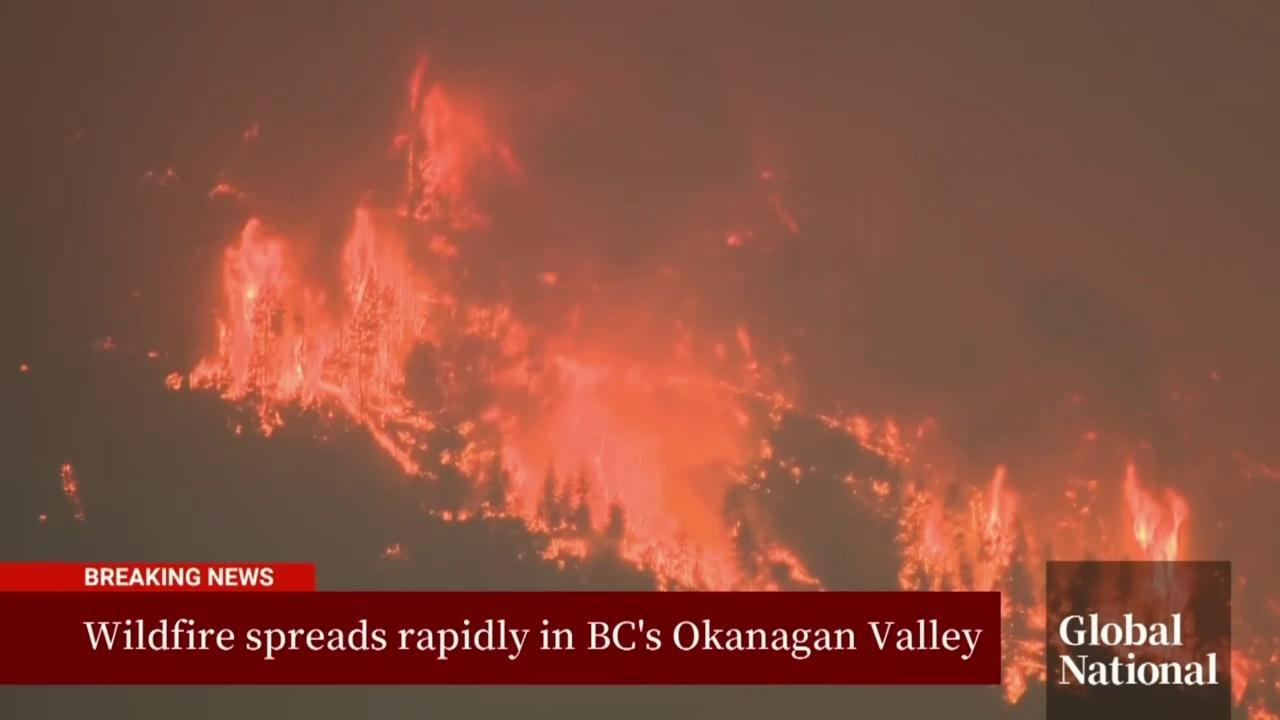fire: (161, 42, 1197, 590), (1229, 626, 1280, 720), (56, 462, 93, 524), (1237, 446, 1279, 490), (376, 542, 408, 561), (16, 362, 33, 377)
